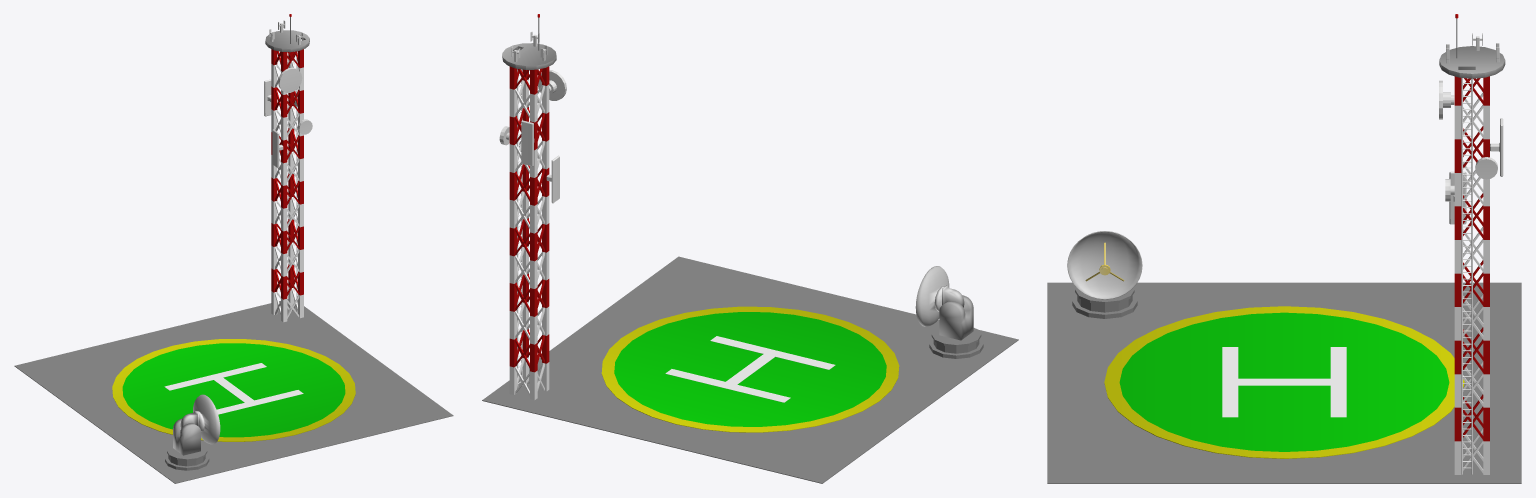
The model's file is SM_Bld_EpmLocation.fbx.
3 renders of one model, left to right at view 1: azimuth 30°, elevation 25°; view 2: azimuth 150°, elevation 25°; view 3: azimuth 270°, elevation 25°, orthographic. The views are drawn at different scales.
Parts seen in each view (by area): view 1: SM_Bld_EpmLocation; view 2: SM_Bld_EpmLocation; view 3: SM_Bld_EpmLocation.
Part boxes in pixels (x1,y1,x2,y2): SM_Bld_EpmLocation: (14,14,453,483); SM_Bld_EpmLocation: (482,14,1018,483); SM_Bld_EpmLocation: (1047,14,1521,483).
Bounding box in the file's own units: 21.53 × 22.61 × 21.53.
